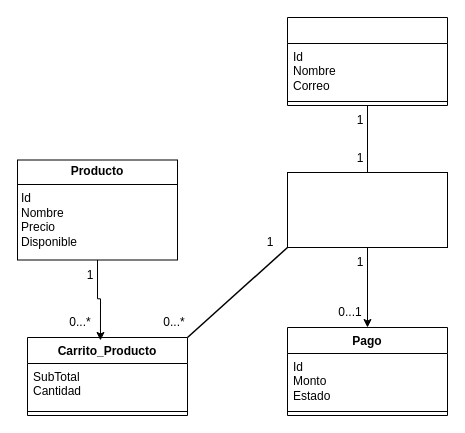
This 465x433 diagram has some shape labels left out. Each missing label, with the box of its shape:
Carrito Id Total Estado: (286, 172, 448, 248)
Usuario: (286, 16, 448, 106)
